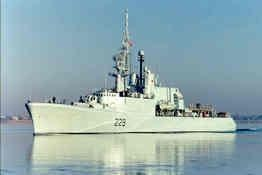warship: (25, 8, 238, 137)
